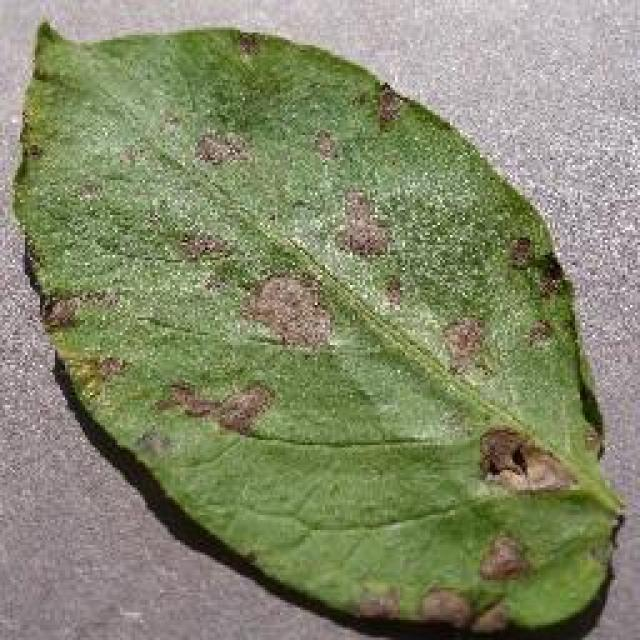early_blight: (5, 15, 625, 637)
